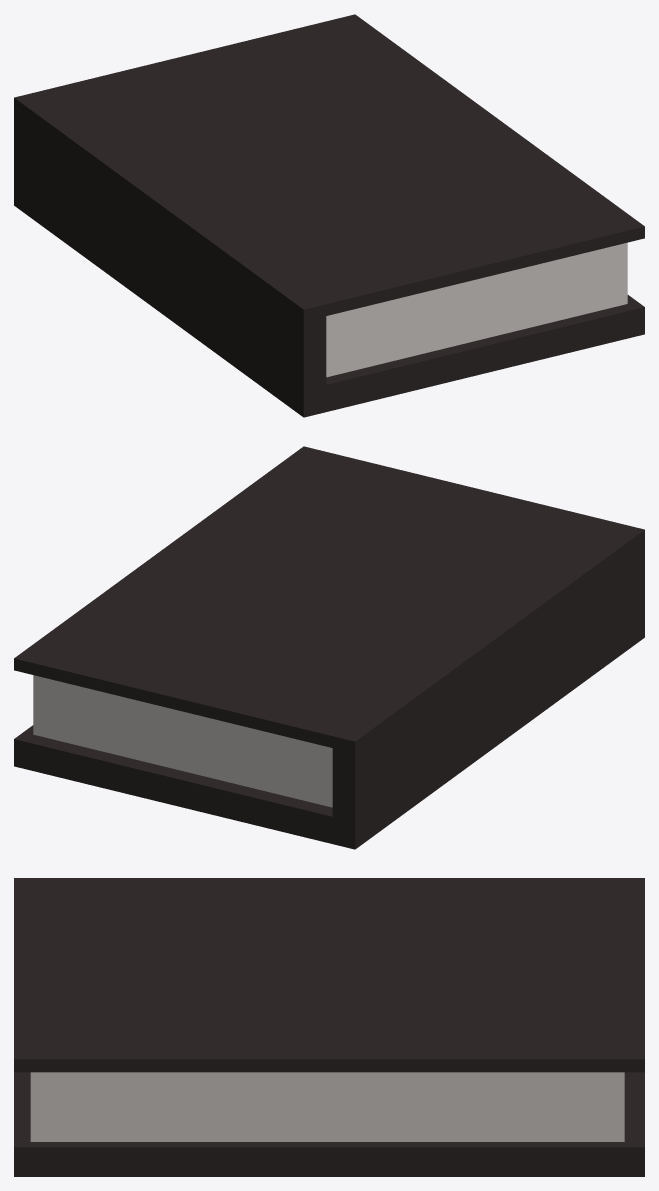
File: bookwithwords.fbx
3 views of the same model, one above another, from view 1: azimuth 30°, elevation 25°; view 2: azimuth 150°, elevation 25°; view 3: azimuth 270°, elevation 25° (orthographic). The views are drawn at different scales.
Visible parts, largest first — view 1: frontcover1, backcover1, paper; view 2: frontcover1, backcover1, paper; view 3: frontcover1, paper, backcover1.
Boxes of the visible parts, x1,y1,x2,y2 form: frontcover1: [14, 14, 644, 321]; backcover1: [14, 110, 644, 417]; paper: [326, 242, 627, 377]; frontcover1: [14, 446, 644, 753]; backcover1: [14, 542, 644, 849]; paper: [33, 675, 332, 807]; frontcover1: [14, 878, 644, 1072]; paper: [30, 1072, 624, 1141]; backcover1: [14, 1072, 644, 1176].
Bounding box in the file's own units: 4.59 × 1.39 × 6.75.
Materials: 2 (1 with a texture image).
